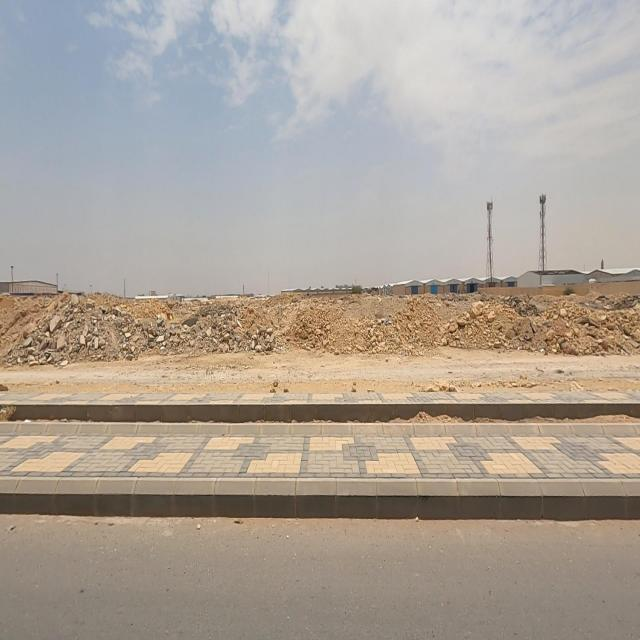debris: (7, 286, 116, 401), (480, 271, 563, 357), (124, 292, 205, 374), (197, 276, 261, 373), (580, 269, 640, 327), (240, 314, 288, 374)
